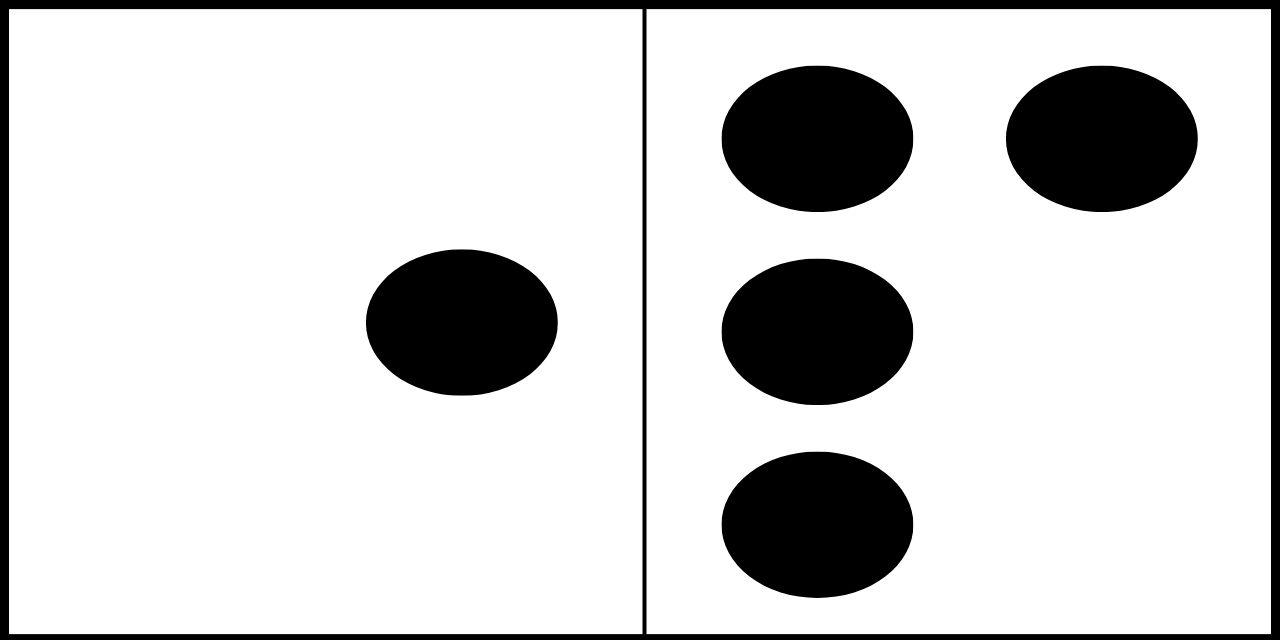dot_5: (95, 62, 560, 600)
patuloy: (721, 63, 1199, 601)
